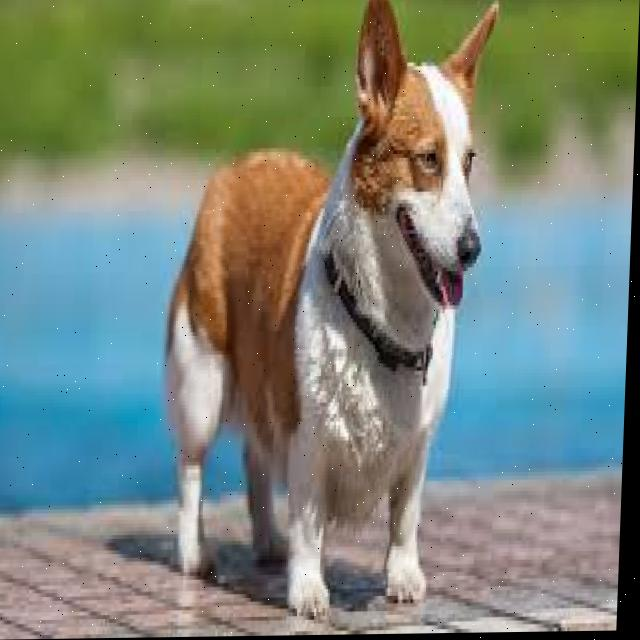CORGI: (135, 0, 505, 622)
